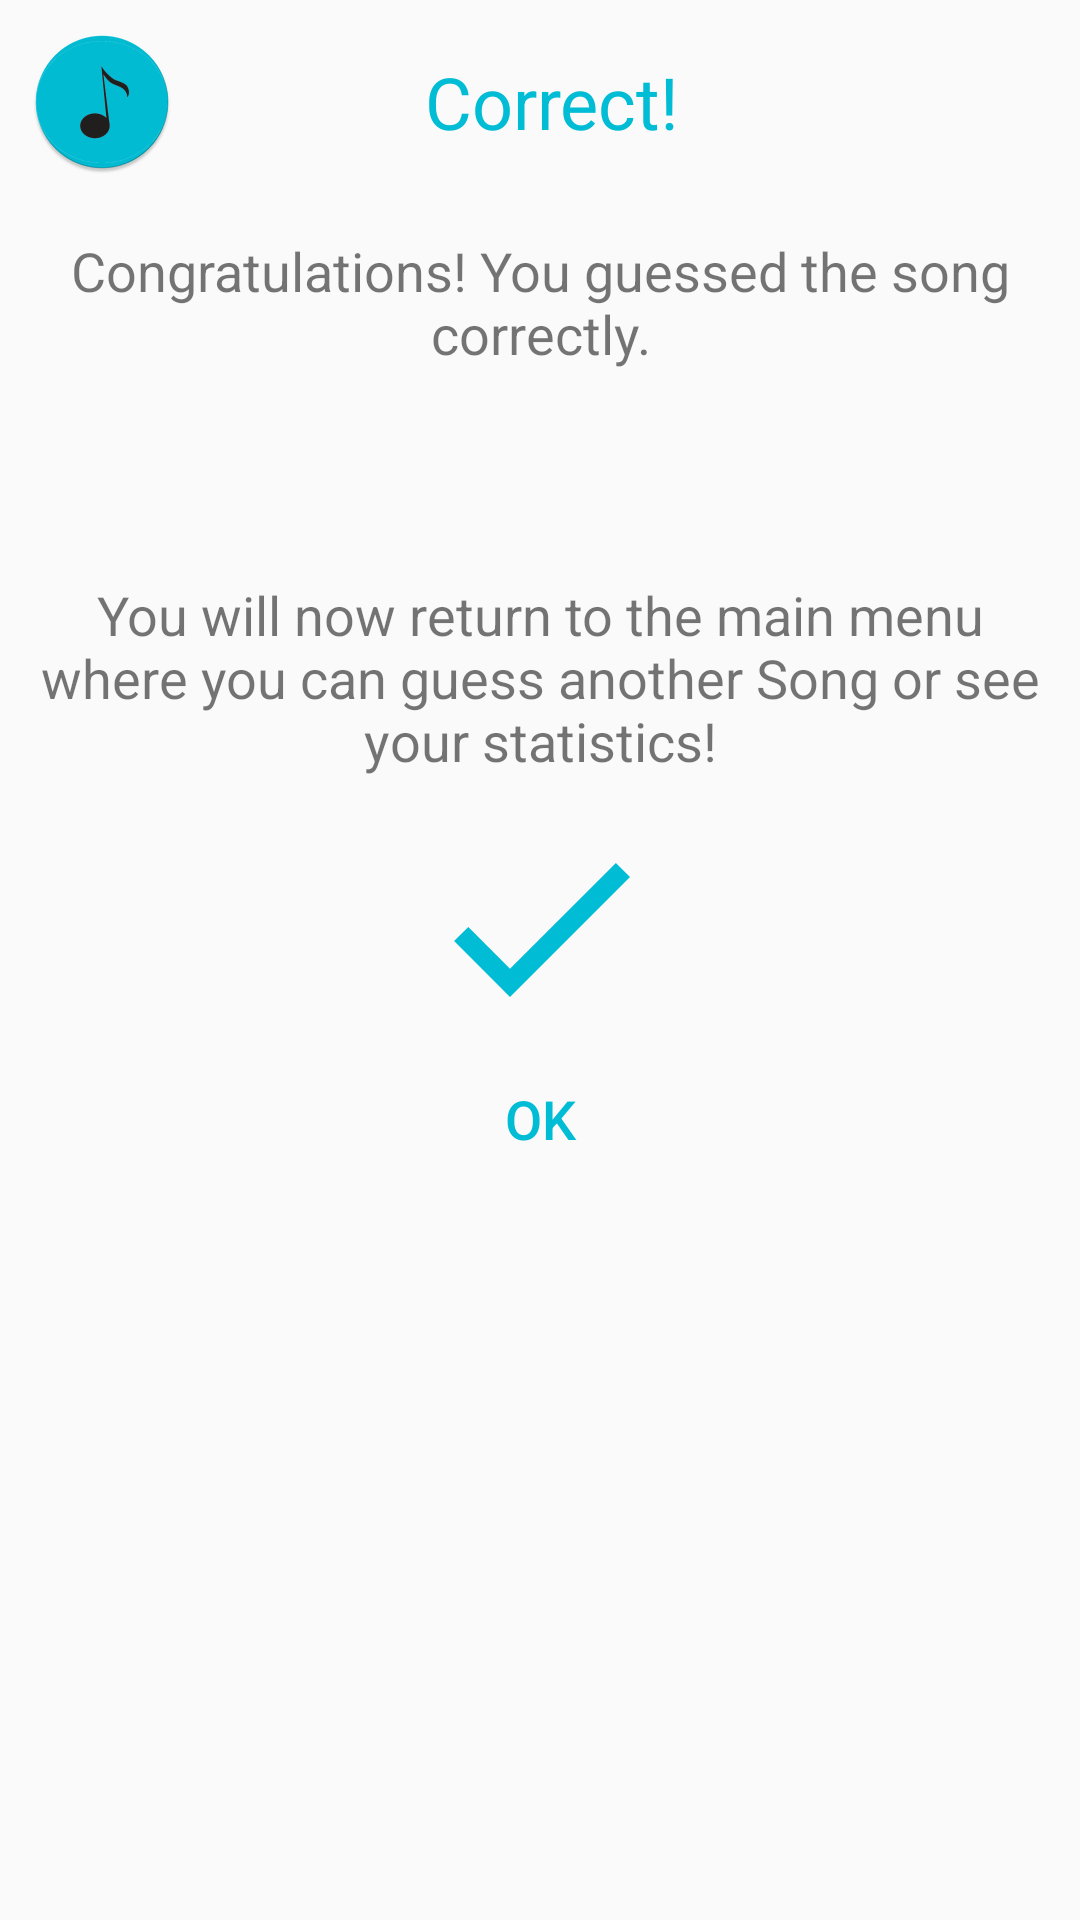

Screen size 1080 x 1920. Icon name, then its box in pixels as [left=x1, top=y1, right=x2, bottom=y2]:
A tick: [left=454, top=863, right=630, bottom=997]
